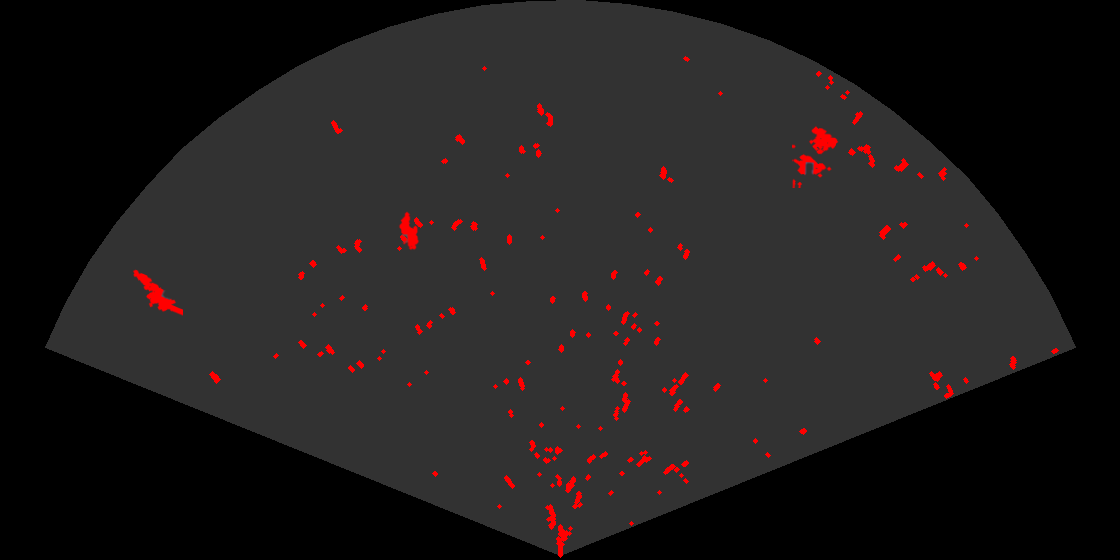AUV: (398, 210, 421, 252)
cage: (792, 124, 840, 188)
frogman: (131, 268, 183, 317)
